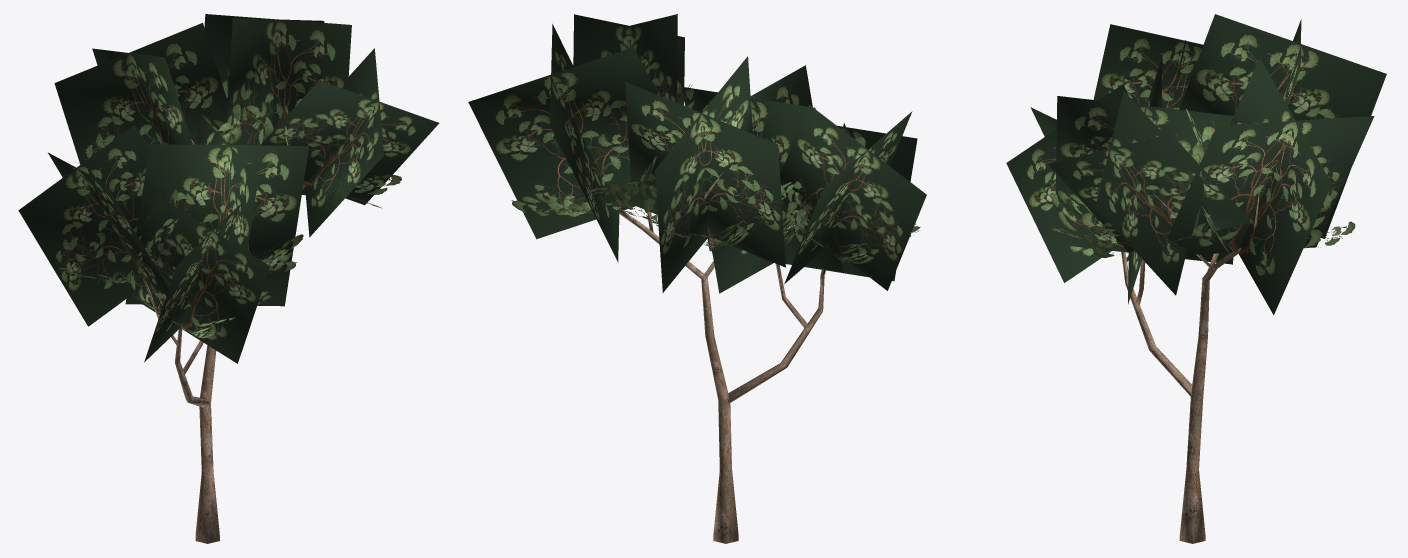
File: decd_ginkgotreeleaves_l0.fbx
3 views of the same model, side by side, from view 1: azimuth 30°, elevation 25°; view 2: azimuth 150°, elevation 25°; view 3: azimuth 270°, elevation 25° (orthographic). The views are drawn at different scales.
Visible parts, largest first — view 1: mesh_node; view 2: mesh_node; view 3: mesh_node.
Boxes of the visible parts, box(x1,y1,x2,y2) form: mesh_node: box(18, 14, 439, 543); mesh_node: box(468, 14, 926, 543); mesh_node: box(1006, 14, 1386, 543).
Size of the model in its own units: 3.19 by 3.66 by 2.63.
